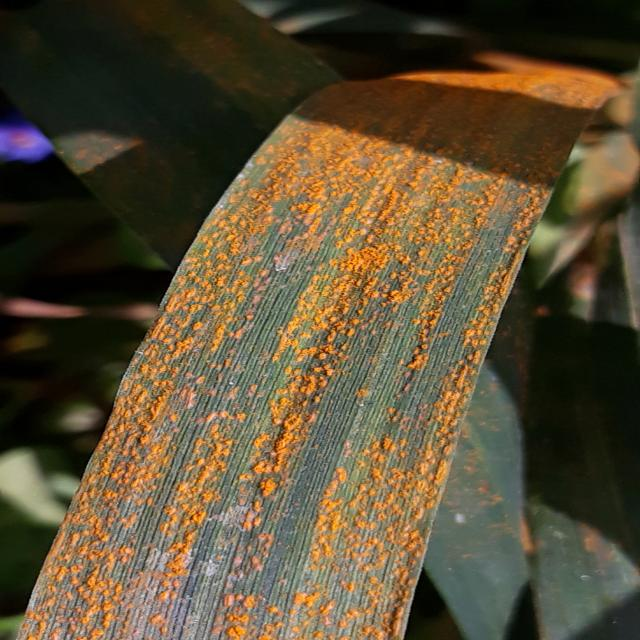yellow_rust: (6, 0, 628, 640)
